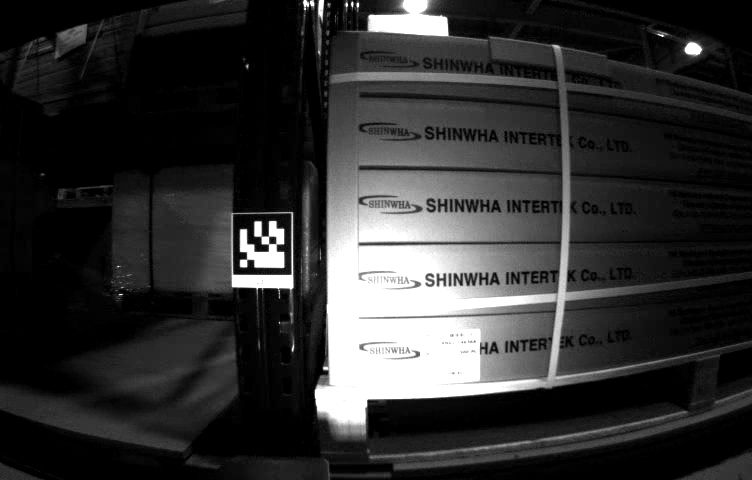True Barcode: (430, 332, 482, 377)
